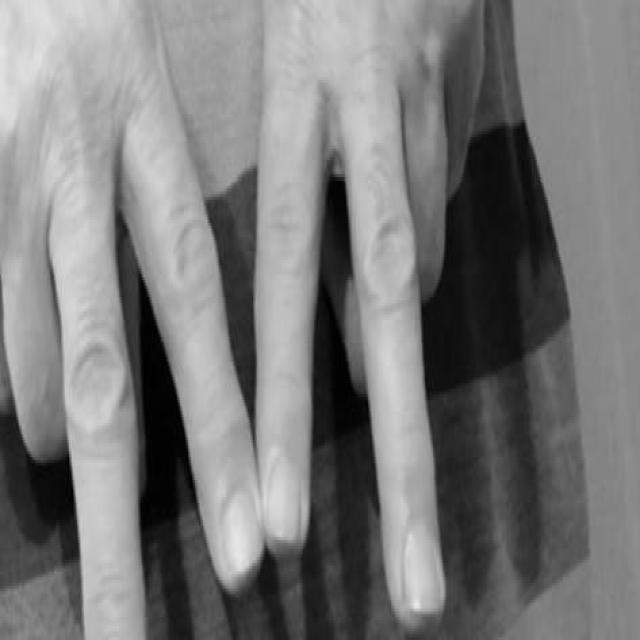M: (4, 0, 488, 640)
